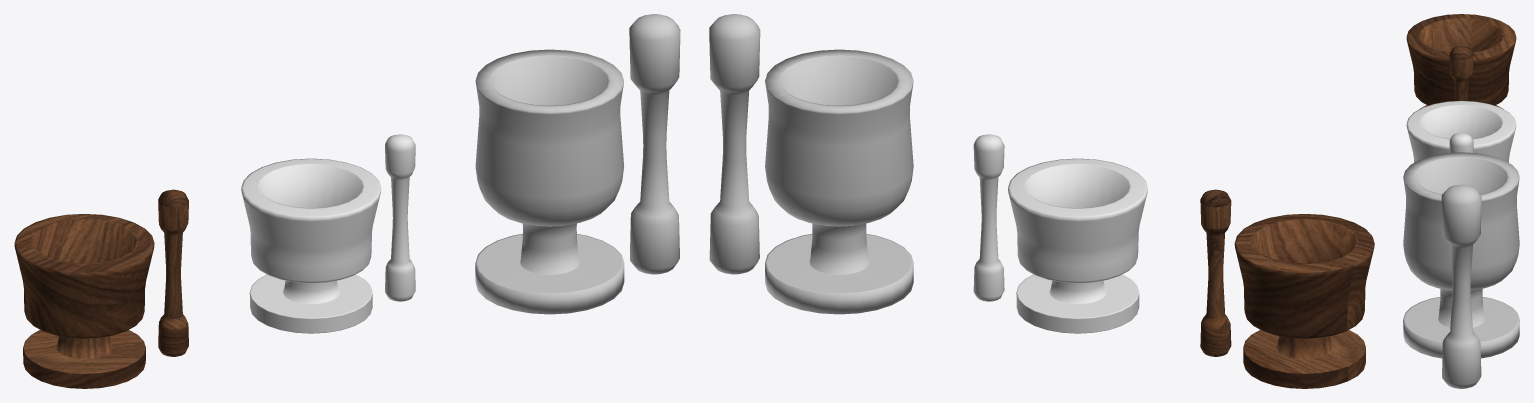
Rendered from tacuES.fbx.
3 views of the same model, side by side, from view 1: azimuth 30°, elevation 25°; view 2: azimuth 150°, elevation 25°; view 3: azimuth 270°, elevation 25° (orthographic). The views are drawn at different scales.
Visible parts, largest first — view 1: ORO, Cylinder, Cylinder.001, ORO2, Cylinder.002, Cylinder.003; view 2: ORO, Cylinder, Cylinder.001, ORO2, Cylinder.003, Cylinder.002; view 3: ORO, Cylinder.001, ORO2, Cylinder, Cylinder.003, Cylinder.002.
Part boxes in pixels (x1,y1,x2,y2): ORO: (475,49,624,314); Cylinder: (241,158,381,333); Cylinder.001: (14,214,154,388); ORO2: (629,14,680,274); Cylinder.002: (385,134,415,301); Cylinder.003: (158,189,188,356); ORO: (765,49,913,314); Cylinder: (1008,158,1147,333); Cylinder.001: (1234,214,1374,388); ORO2: (709,14,760,274); Cylinder.003: (1200,189,1231,356); Cylinder.002: (973,134,1004,301); ORO: (1403,152,1519,358); Cylinder.001: (1406,14,1516,109); ORO2: (1441,184,1481,388); Cylinder: (1406,100,1516,162); Cylinder.003: (1449,46,1473,100); Cylinder.002: (1449,133,1473,152).
Size of the model in its own units: 441 by 164 by 86.88.
